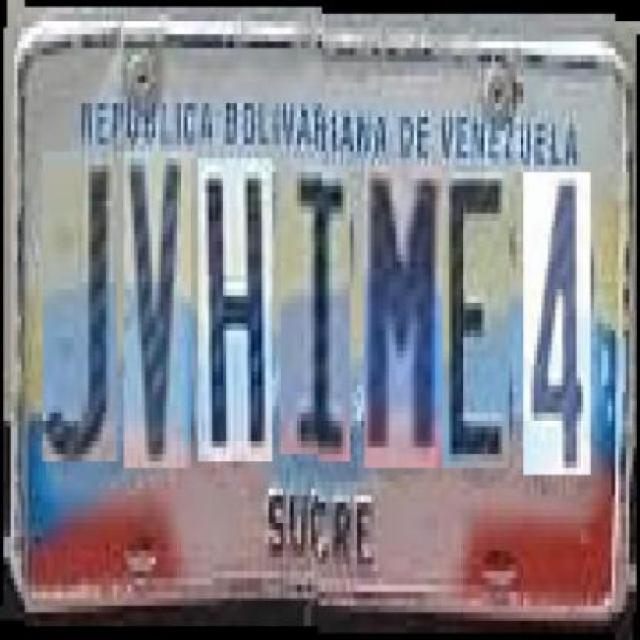4: (523, 165, 591, 468)
e: (442, 157, 509, 460)
h: (198, 157, 273, 460)
i: (279, 158, 350, 454)
j: (41, 150, 117, 462)
m: (364, 157, 442, 460)
v: (124, 150, 191, 468)
